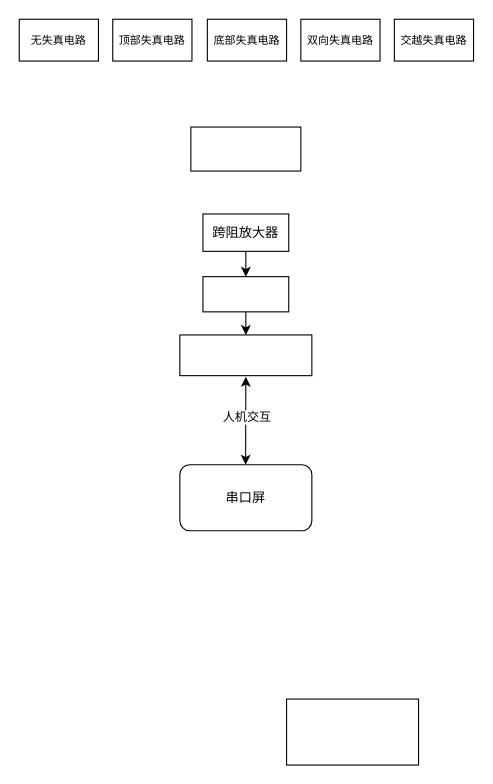
The diagram is 493 pixels wide and 784 high, and some of its shapes have lost their labels. Each missing label, with the centre of its shape:
"MSPM0G3519" goes at pixel 245 355.
"信号继电器" goes at pixel 245 148.
"程控放大器" goes at pixel 245 294.
